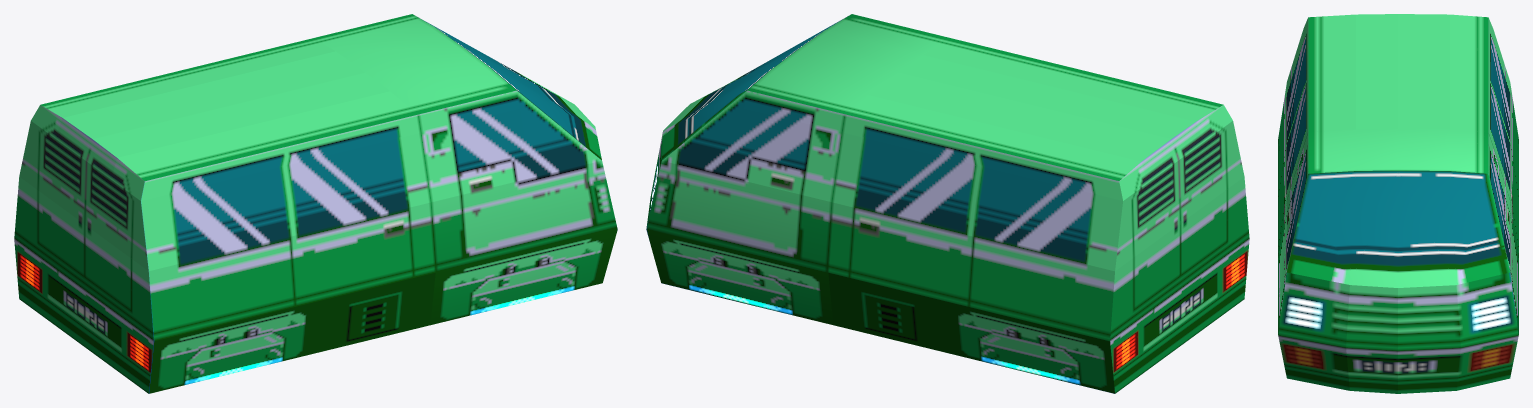
File: van.FBX
3 views of the same model, side by side, from view 1: azimuth 30°, elevation 25°; view 2: azimuth 150°, elevation 25°; view 3: azimuth 270°, elevation 25° (orthographic). The views are drawn at different scales.
Parts seen in each view (by area): view 1: van; view 2: van; view 3: van.
Boxes of the visible parts, bbox=[...] form: van: bbox=[14, 14, 617, 393]; van: bbox=[646, 14, 1249, 393]; van: bbox=[1278, 14, 1518, 393].
Bounding box in the file's own units: 56.46 × 22.13 × 27.27.
1 material, 1 textured.
